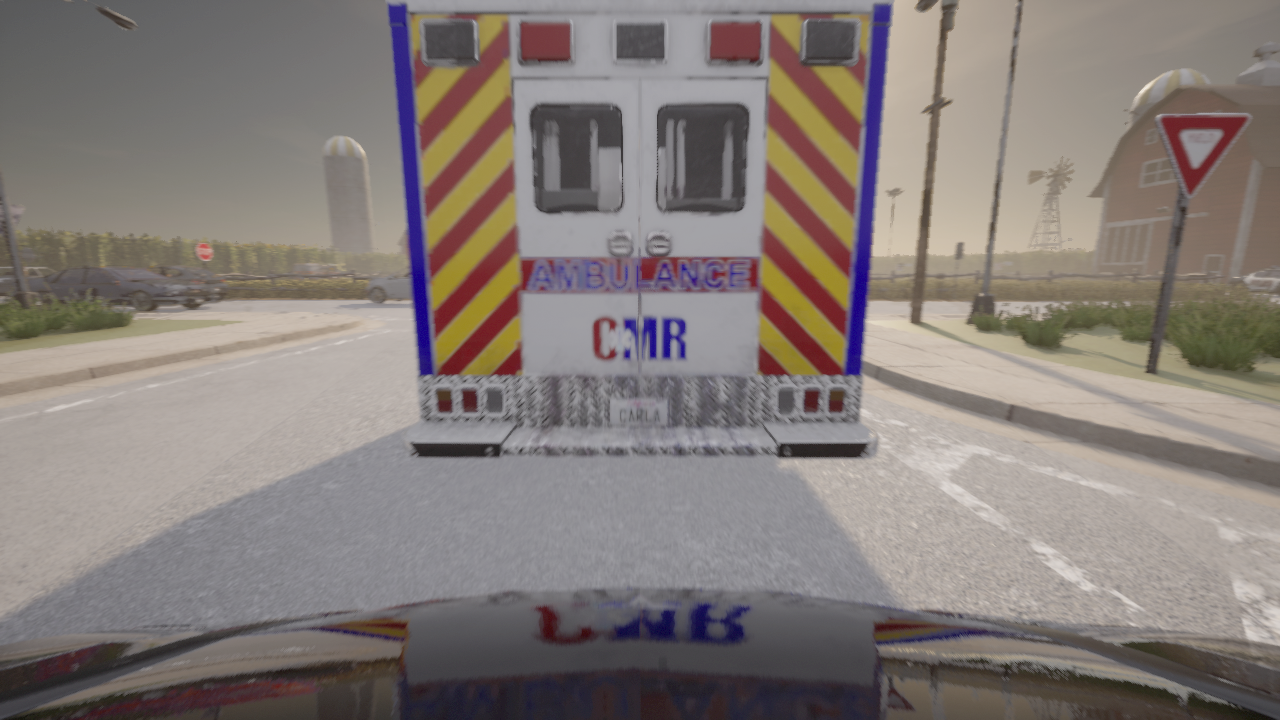cyclist: (387, 0, 893, 458), (0, 588, 1279, 719), (7, 266, 219, 311), (143, 266, 228, 301), (367, 266, 411, 303), (0, 267, 55, 296), (1229, 266, 1279, 295), (293, 264, 339, 279)
